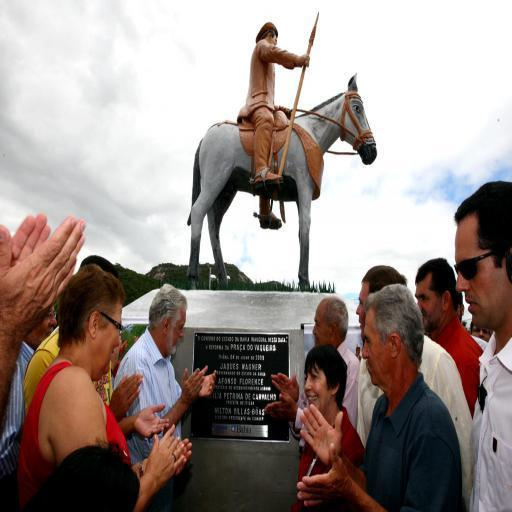horse: (188, 72, 380, 292)
